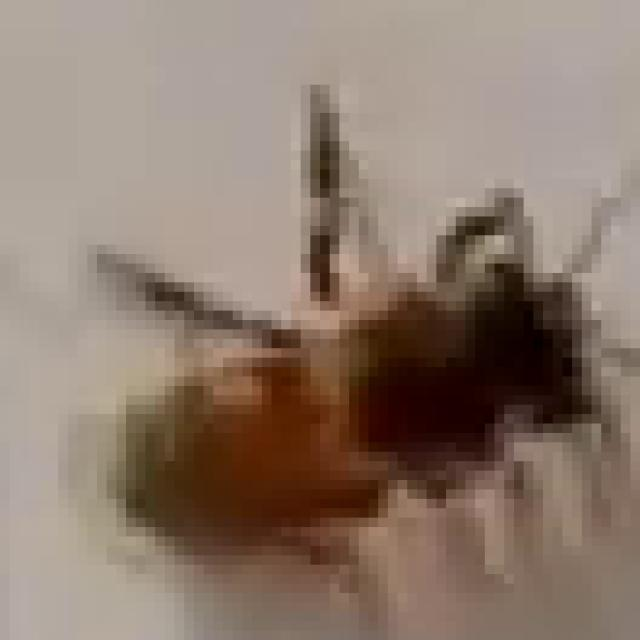honeybee: (114, 113, 616, 595)
